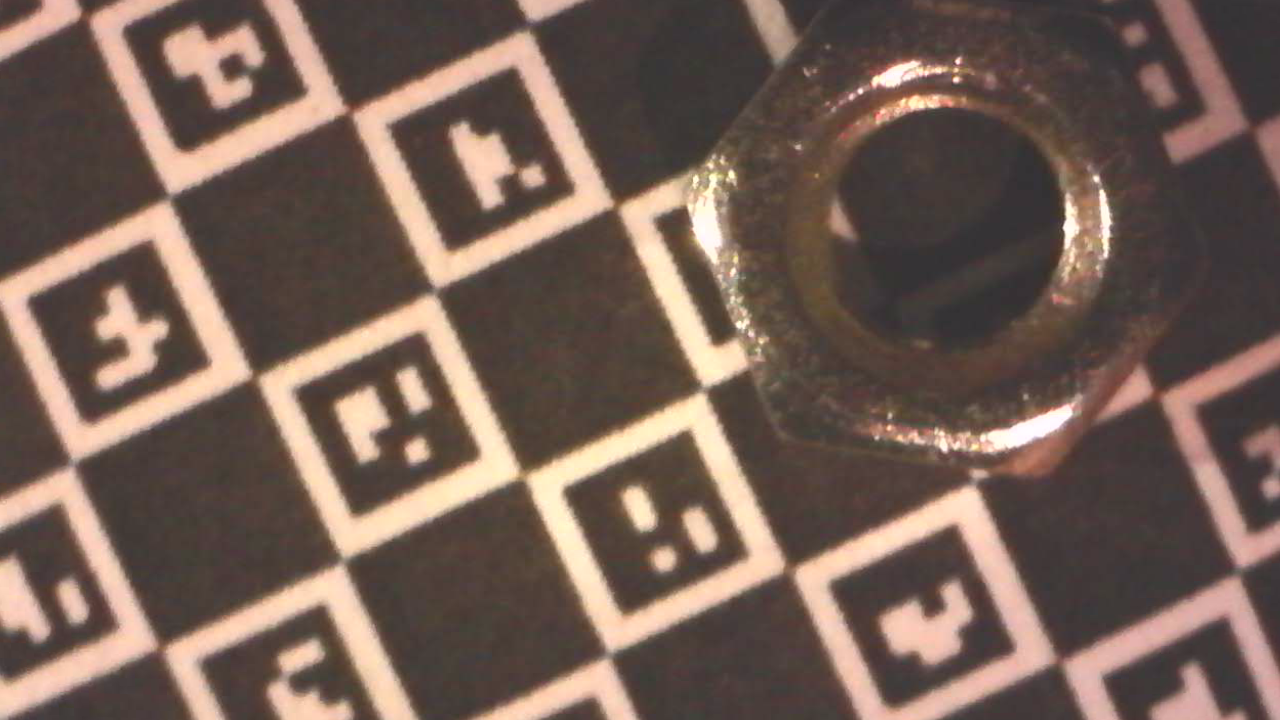Bolt: (681, 0, 1210, 486)
